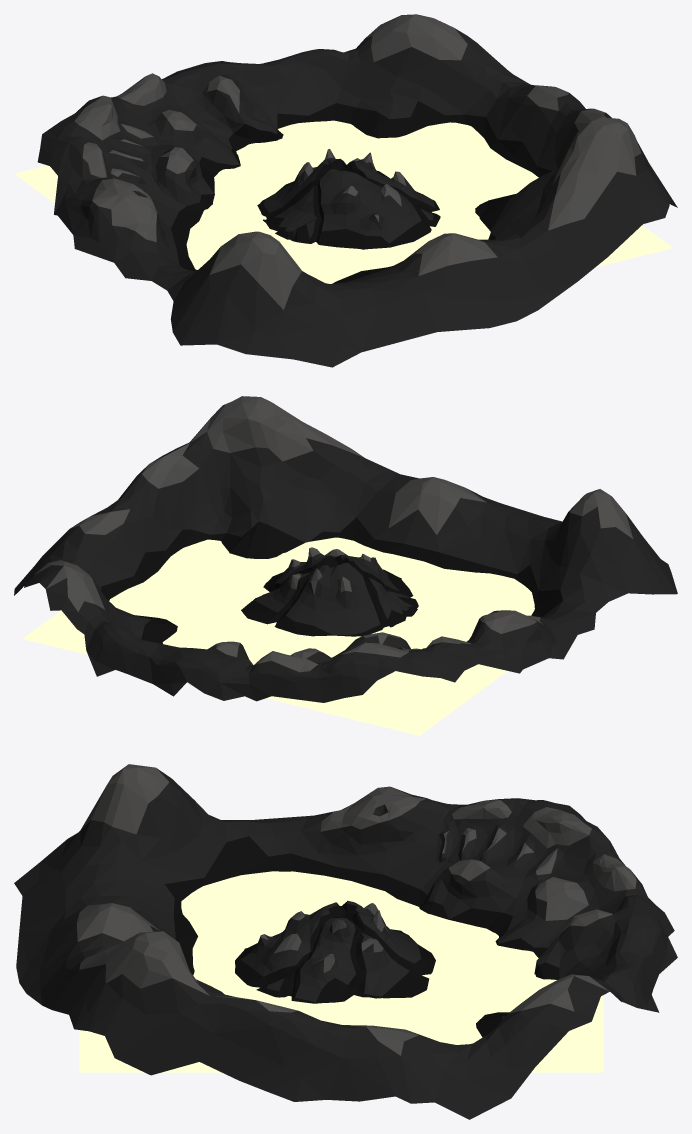
Rendered from world.fbx.
3 renders of one model, top to bottom at view 1: azimuth 30°, elevation 25°; view 2: azimuth 150°, elevation 25°; view 3: azimuth 270°, elevation 25°, orthographic. The views are drawn at different scales.
Visible parts, largest first — view 1: Плоскость, Плоскость.003; view 2: Плоскость, Плоскость.003; view 3: Плоскость, Плоскость.003.
Boxes of the visible parts, x1,y1,x2,y2 form: Плоскость: (37, 14, 677, 367); Плоскость.003: (14, 120, 672, 283); Плоскость: (14, 396, 677, 702); Плоскость.003: (22, 537, 534, 735); Плоскость: (14, 764, 677, 1119); Плоскость.003: (79, 871, 603, 1072).
Bounding box in the file's own units: 172 × 38.18 × 169.
